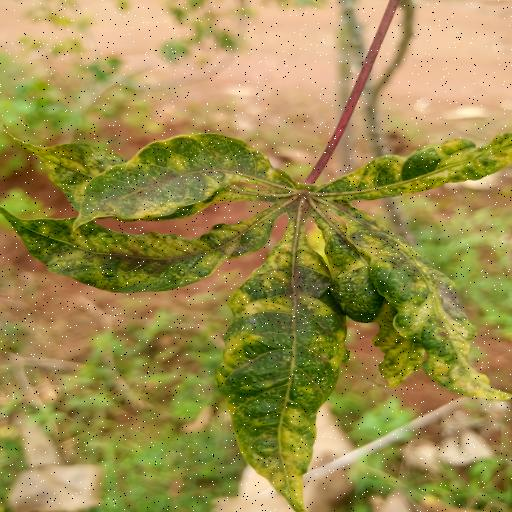Cassava_Mosaic: (0, 121, 512, 506)
